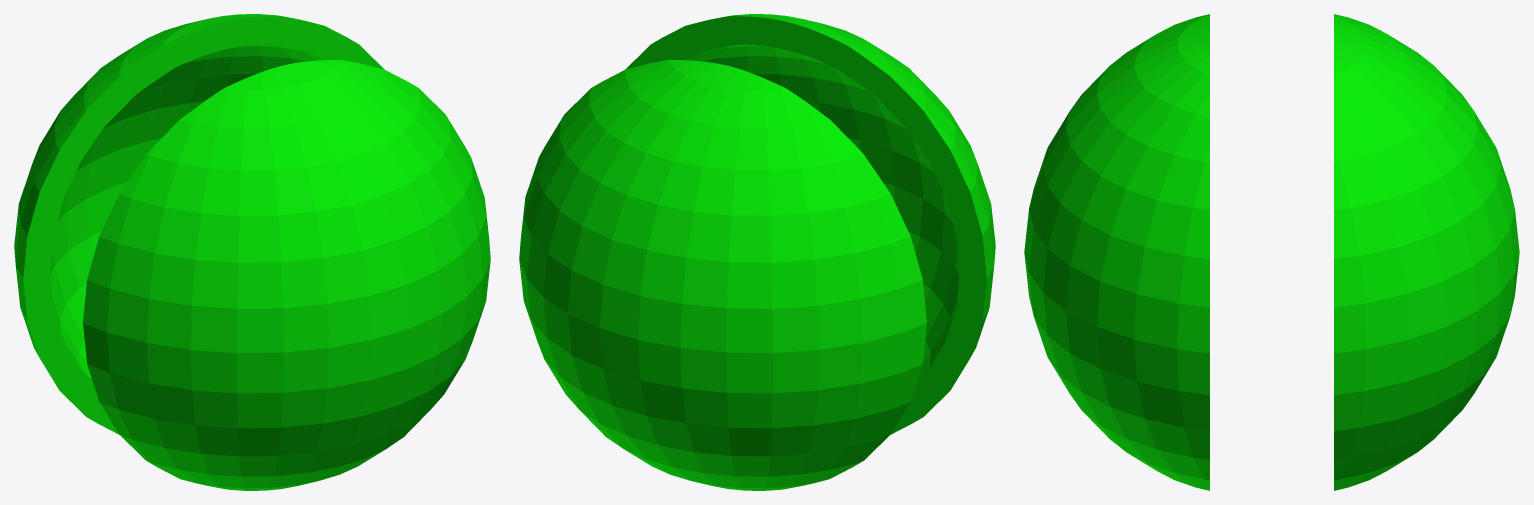
File: Turret_P1_Green.fbx
3 renders of one model, left to right at view 1: azimuth 30°, elevation 25°; view 2: azimuth 150°, elevation 25°; view 3: azimuth 270°, elevation 25°, orthographic. The views are drawn at different scales.
Parts seen in each view (by area): view 1: Sphere; view 2: Sphere; view 3: Sphere.
Part boxes in pixels (x1,y1,x2,y2): Sphere: (14, 14, 490, 490); Sphere: (519, 14, 995, 490); Sphere: (1024, 14, 1519, 490).
Size of the model in its own units: 193 by 193 by 200.
